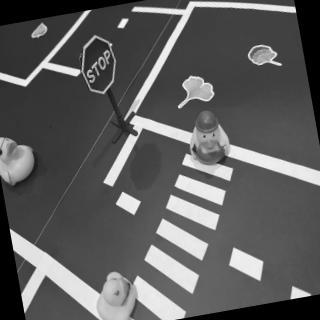duck_regular: (90, 265, 145, 320)
duck_specialty: (184, 107, 235, 171), (1, 128, 41, 190)
road_crosswalk: (105, 140, 262, 320)
sign_stop: (75, 33, 122, 98)
